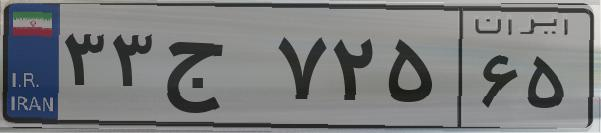2: (330, 28, 385, 110)
3: (57, 26, 110, 100), (110, 28, 158, 98)
5: (385, 28, 445, 110), (525, 38, 570, 115)
6: (475, 38, 525, 113)
7: (270, 28, 330, 110)
ج: (158, 20, 270, 120)
